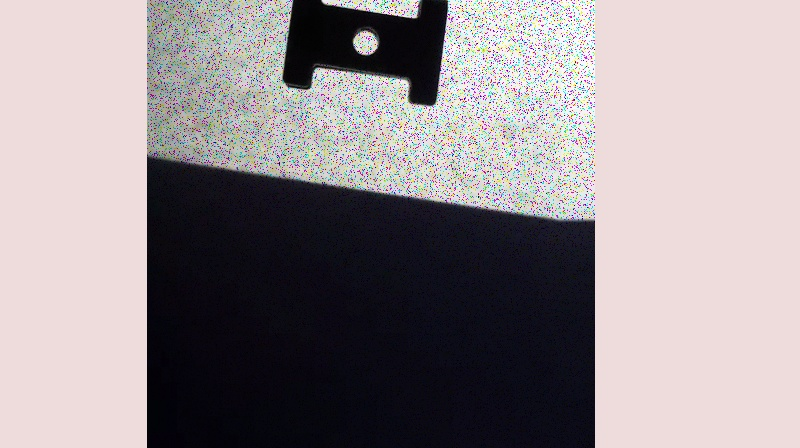O002: (279, 0, 449, 109)
